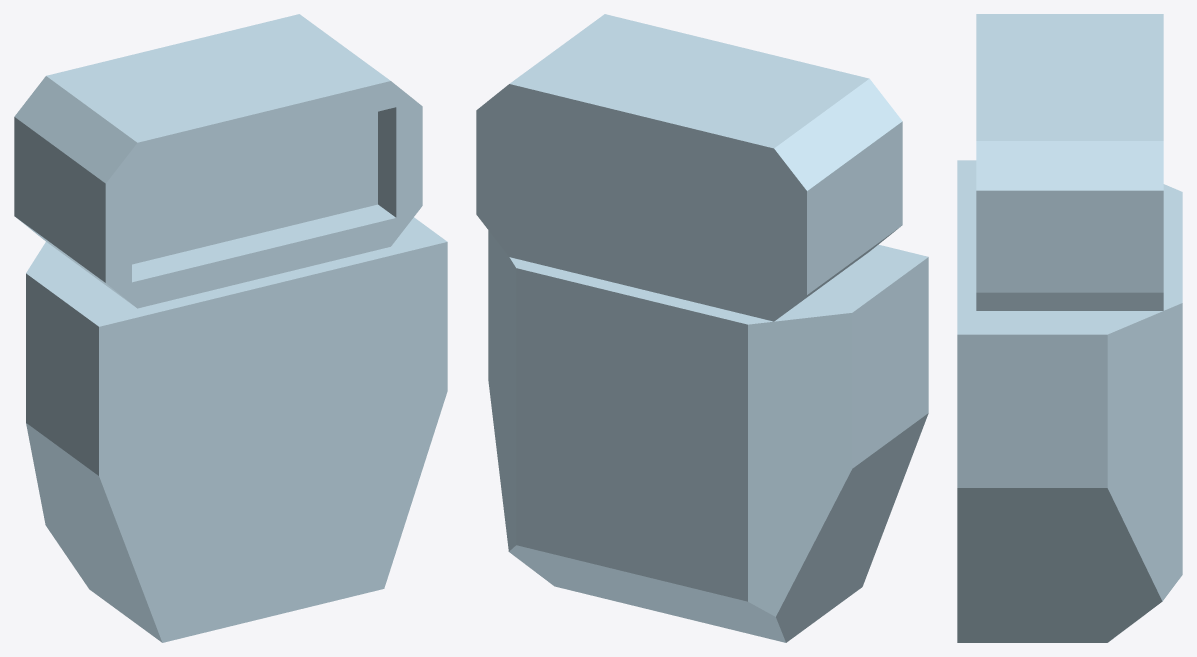
Rendered from robot1.gltf.
3 renders of one model, left to right at view 1: azimuth 30°, elevation 25°; view 2: azimuth 150°, elevation 25°; view 3: azimuth 270°, elevation 25°, orthographic. The views are drawn at different scales.
Visible parts, largest first — view 1: Part 1; view 2: Part 1; view 3: Part 1.
Boxes of the visible parts, bbox=[...] form: Part 1: bbox=[14, 14, 447, 642]; Part 1: bbox=[476, 14, 928, 642]; Part 1: bbox=[957, 14, 1182, 642].
Size of the model in its own units: 1.1 by 1.5 by 0.6.
